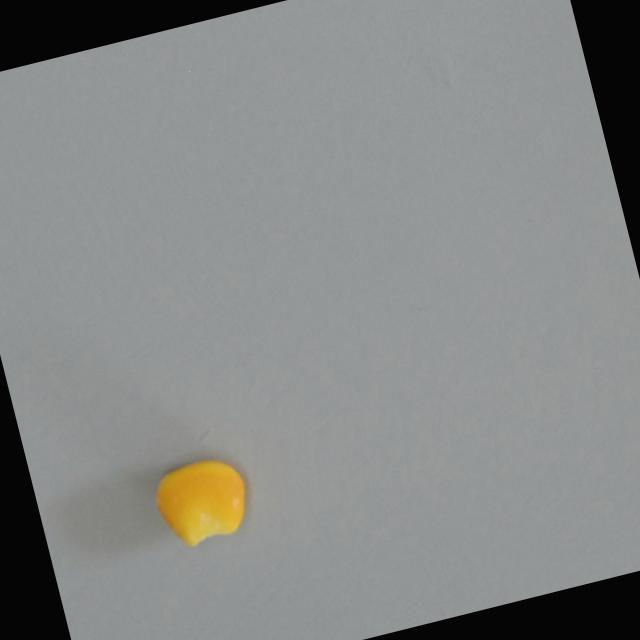no_canjicado: (141, 447, 260, 560)
